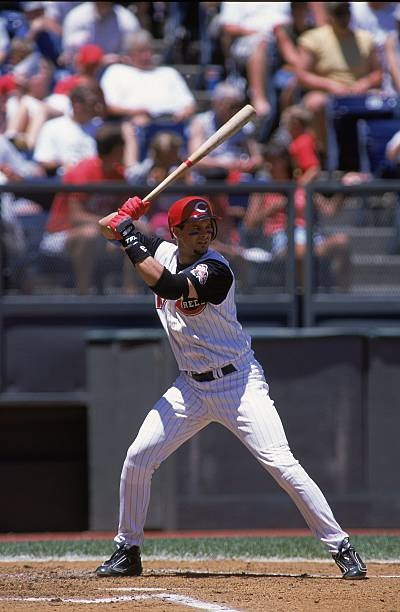bita: (116, 98, 250, 226)
